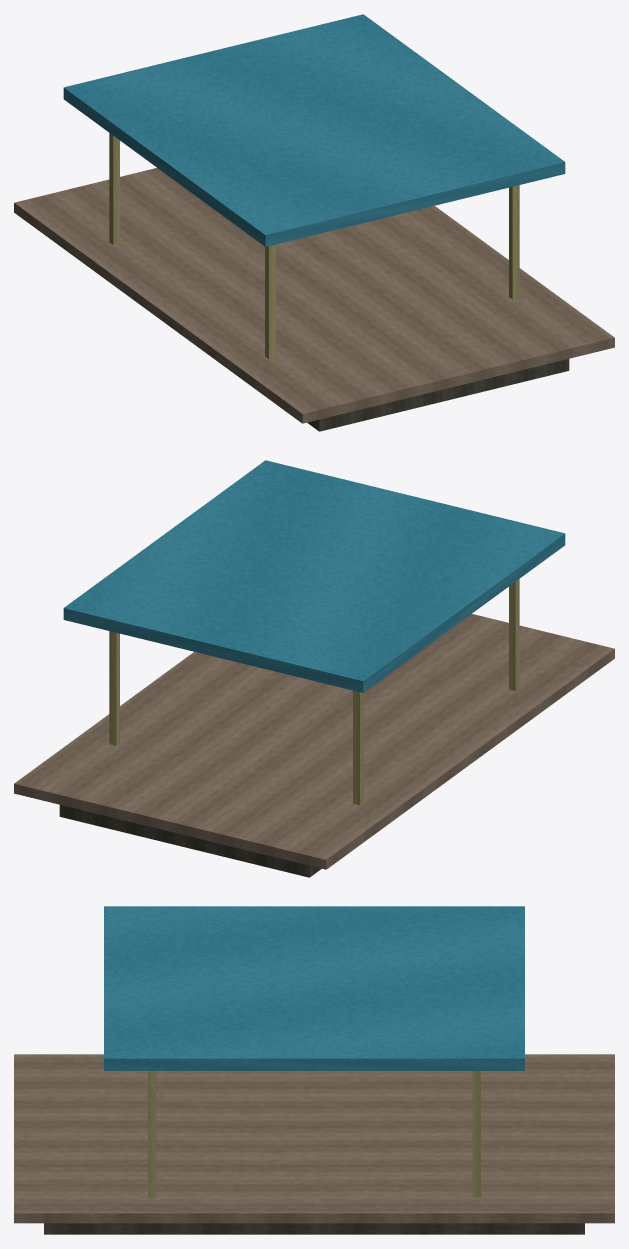
File: bung-raft-2-blue-lod.glb
3 views of the same model, one above another, from view 1: azimuth 30°, elevation 25°; view 2: azimuth 150°, elevation 25°; view 3: azimuth 270°, elevation 25° (orthographic). The views are drawn at different scales.
Parts seen in each view (by area): view 1: bung-raft-2-blue-lod; view 2: bung-raft-2-blue-lod; view 3: bung-raft-2-blue-lod.
Boxes of the visible parts, x1,y1,x2,y2 form: bung-raft-2-blue-lod: (14, 14, 614, 431); bung-raft-2-blue-lod: (14, 460, 614, 877); bung-raft-2-blue-lod: (14, 906, 614, 1234).
Size of the model in its own units: 5 by 2.78 by 8.
1 material, 1 textured.
